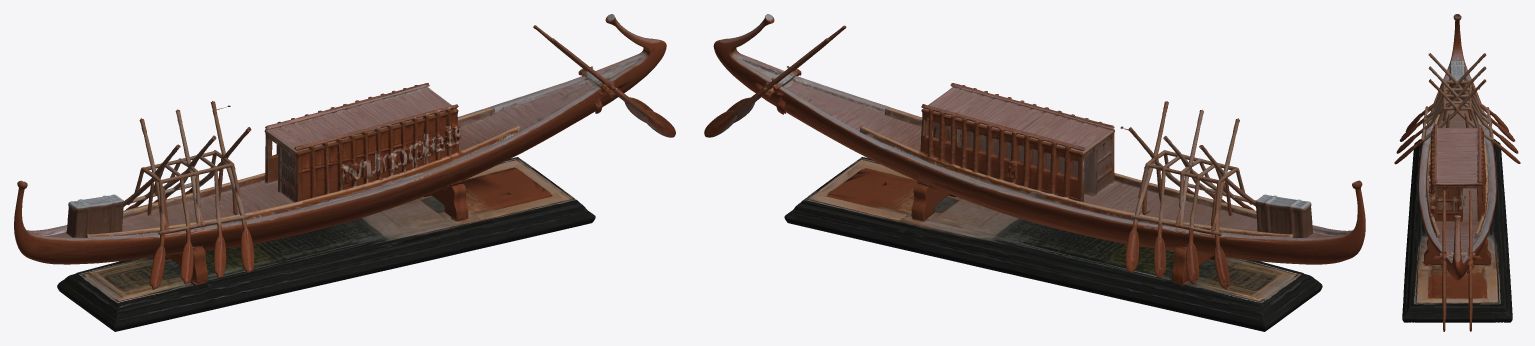
Rendered from King_Khufu_Ship.min.glb.
3 views of the same model, side by side, from view 1: azimuth 30°, elevation 25°; view 2: azimuth 150°, elevation 25°; view 3: azimuth 270°, elevation 25° (orthographic). The views are drawn at different scales.
Visible parts, largest first — view 1: tripo_node_0a95895b-9009-4b46-864a-aa3a95a81f07; view 2: tripo_node_0a95895b-9009-4b46-864a-aa3a95a81f07; view 3: tripo_node_0a95895b-9009-4b46-864a-aa3a95a81f07.
Part boxes in pixels (<box>): tripo_node_0a95895b-9009-4b46-864a-aa3a95a81f07: <box>14,14,675,331</box>; tripo_node_0a95895b-9009-4b46-864a-aa3a95a81f07: <box>704,14,1365,331</box>; tripo_node_0a95895b-9009-4b46-864a-aa3a95a81f07: <box>1394,14,1520,331</box>.
Size of the model in its own units: 0.9803 by 0.2428 by 0.2171.
1 material, 1 textured.
